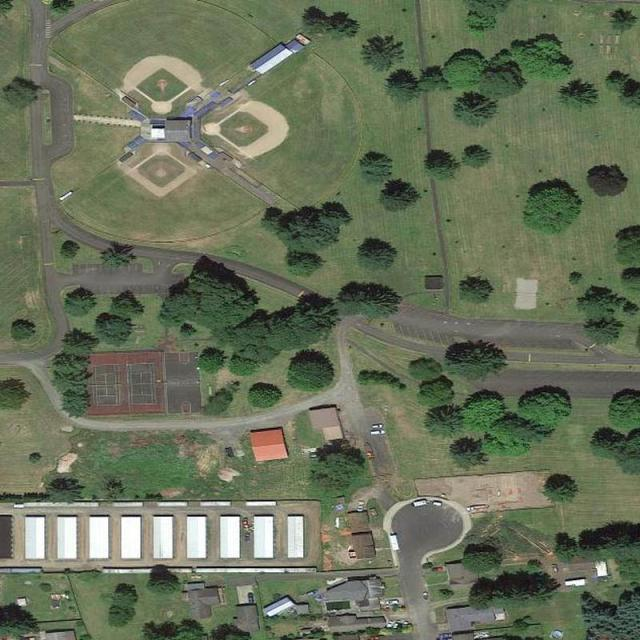vehicle: (390, 534, 399, 550), (412, 499, 426, 507), (371, 430, 386, 436), (386, 599, 399, 605), (248, 593, 254, 604), (551, 563, 558, 572), (372, 424, 383, 429), (432, 501, 442, 506)
